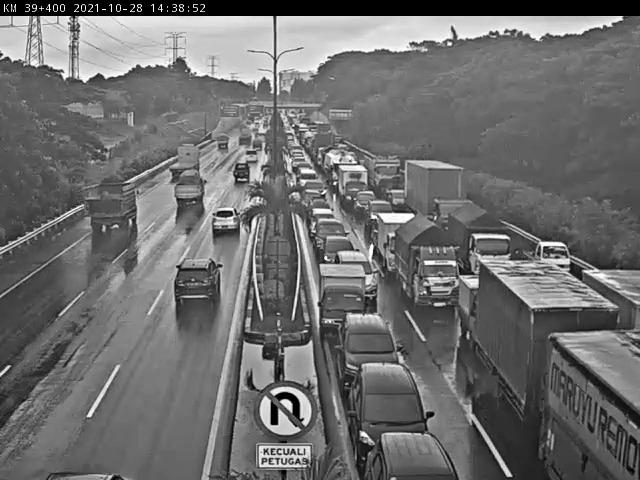big truck: (479, 259, 626, 446), (405, 159, 477, 247), (168, 142, 202, 181), (235, 128, 251, 147)
car: (349, 364, 436, 463), (335, 314, 399, 398), (363, 433, 460, 480), (174, 258, 223, 306), (335, 252, 380, 302), (319, 236, 360, 277), (527, 240, 571, 275), (312, 218, 350, 257), (211, 206, 246, 234), (367, 199, 395, 231), (309, 207, 334, 237), (355, 191, 376, 216), (244, 148, 261, 165), (251, 141, 263, 152)
small bus: (255, 134, 269, 148)
small truck: (393, 215, 462, 312), (446, 203, 512, 279), (458, 274, 521, 351), (317, 261, 369, 337), (83, 180, 141, 233), (377, 212, 420, 277), (172, 170, 208, 209), (339, 165, 369, 207), (231, 161, 251, 183), (211, 135, 227, 152)
